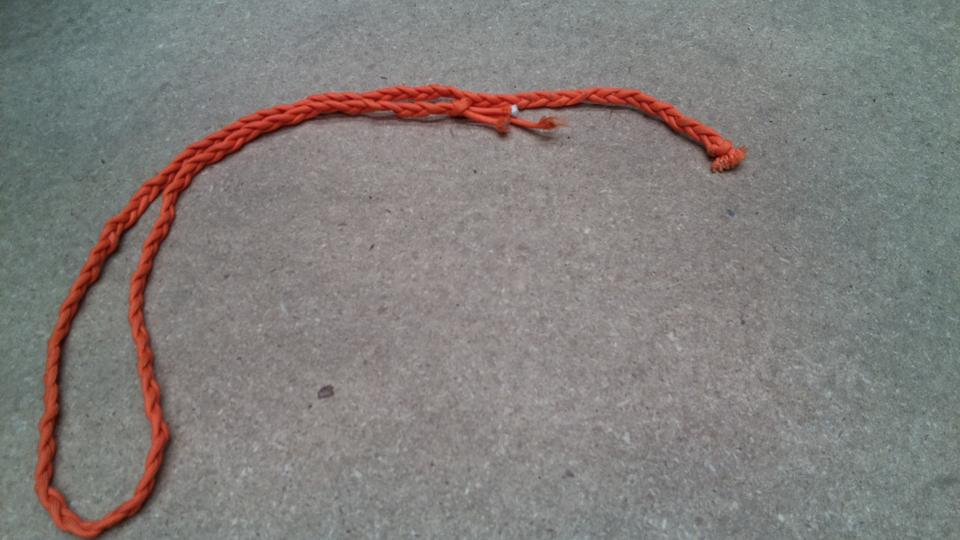rope: (31, 78, 754, 539)
